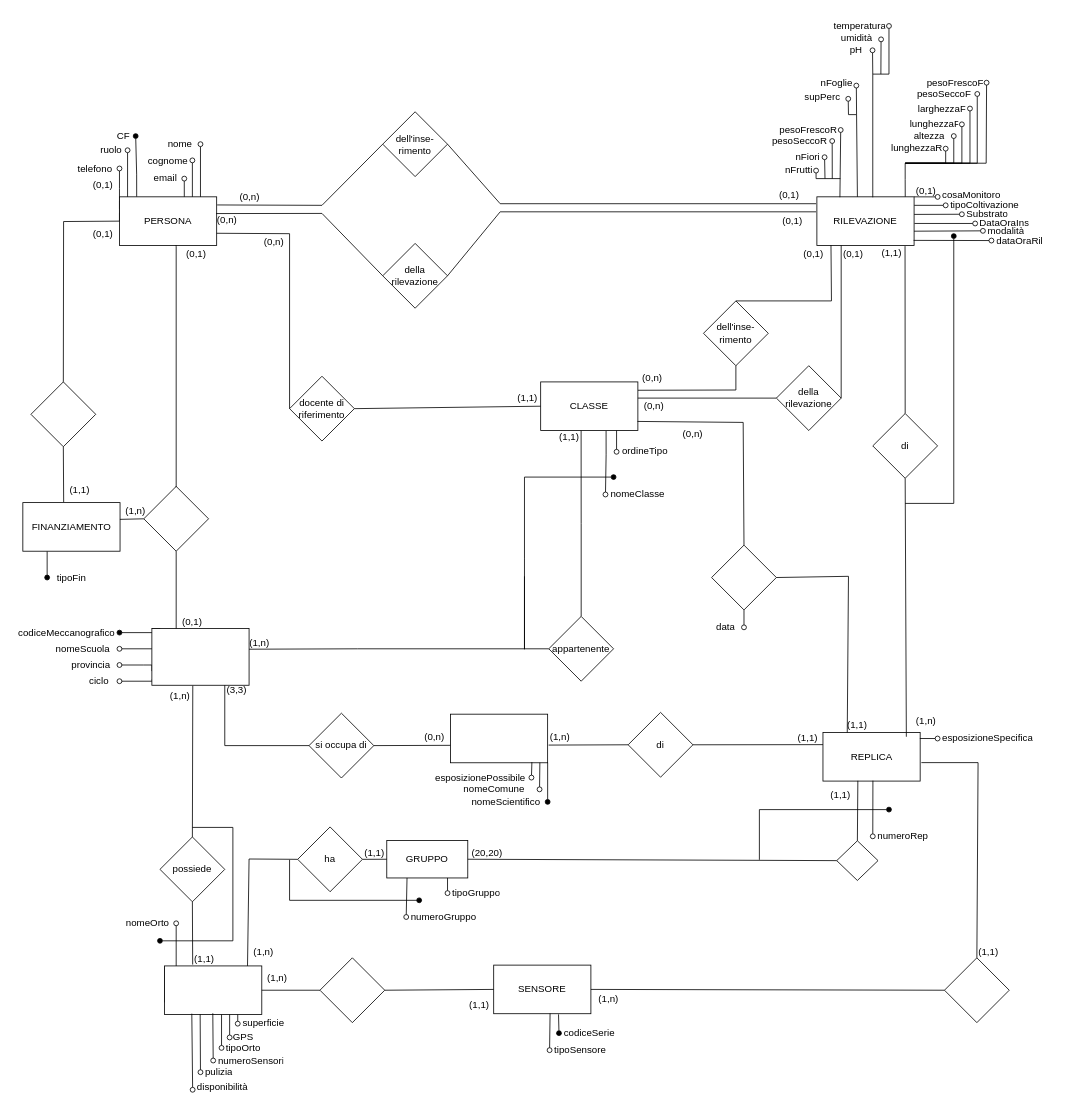
The diagram is 1065 pixels wide and 1113 high, and some of its shapes have lost their labels. Here are the shapes that lost their labels. From the top down, the centre of each, then its label:
At point (63, 414): "partecipante".
At point (176, 518): "referente".
At point (743, 577): "mette a dimora".
At point (200, 656): "SCUOLA".
At point (499, 738): "SPECIE".
At point (857, 860): "contiene".
At point (213, 990): "ORTO".
At point (352, 990): "in".
At point (976, 990): "associate a".
